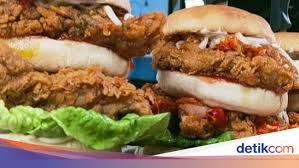ayam_geprek: (2, 28, 236, 147)
